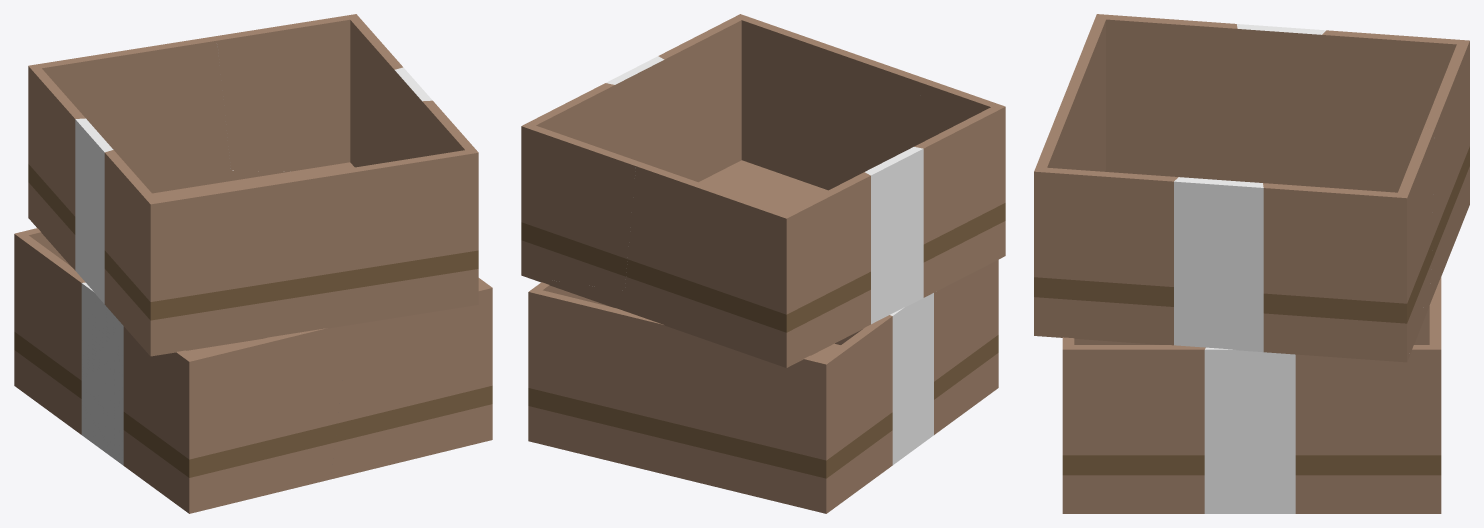
File: destructible-cartoonbox5-chunk.glb
3 views of the same model, side by side, from view 1: azimuth 30°, elevation 25°; view 2: azimuth 150°, elevation 25°; view 3: azimuth 270°, elevation 25° (orthographic). The views are drawn at different scales.
Parts seen in each view (by area): view 1: Cube.003_cell.002, Cube.003_cell.001, Cube.003_cell.005, Cube.003_cell.003, Cube.003_cell.004, Cube.003_cell; view 2: Cube.003_cell.002, Cube.003_cell, Cube.003_cell.001, Cube.003_cell.003, Cube.003_cell.004, Cube.003_cell.005; view 3: Cube.003_cell.003, Cube.003_cell.002, Cube.003_cell.004, Cube.003_cell.001.
Boxes of the visible parts, bbox=[...] form: Cube.003_cell.002: bbox=[28, 36, 282, 347]; Cube.003_cell.001: bbox=[215, 38, 478, 375]; Cube.003_cell.005: bbox=[41, 315, 342, 513]; Cube.003_cell.003: bbox=[214, 14, 492, 351]; Cube.003_cell.004: bbox=[187, 170, 492, 479]; Cube.003_cell: bbox=[14, 212, 139, 404]; Cube.003_cell.002: bbox=[625, 81, 1005, 361]; Cube.003_cell: bbox=[649, 282, 954, 513]; Cube.003_cell.001: bbox=[639, 14, 932, 212]; Cube.003_cell.003: bbox=[521, 64, 750, 290]; Cube.003_cell.004: bbox=[525, 276, 851, 479]; Cube.003_cell.005: bbox=[851, 247, 1005, 494]; Cube.003_cell.003: bbox=[1034, 129, 1434, 409]; Cube.003_cell.002: bbox=[1080, 14, 1469, 294]; Cube.003_cell.004: bbox=[1062, 279, 1441, 513]; Cube.003_cell.001: bbox=[1034, 57, 1429, 310].
Bounding box in the file's own units: 2.3 × 1.91 × 2.3.
